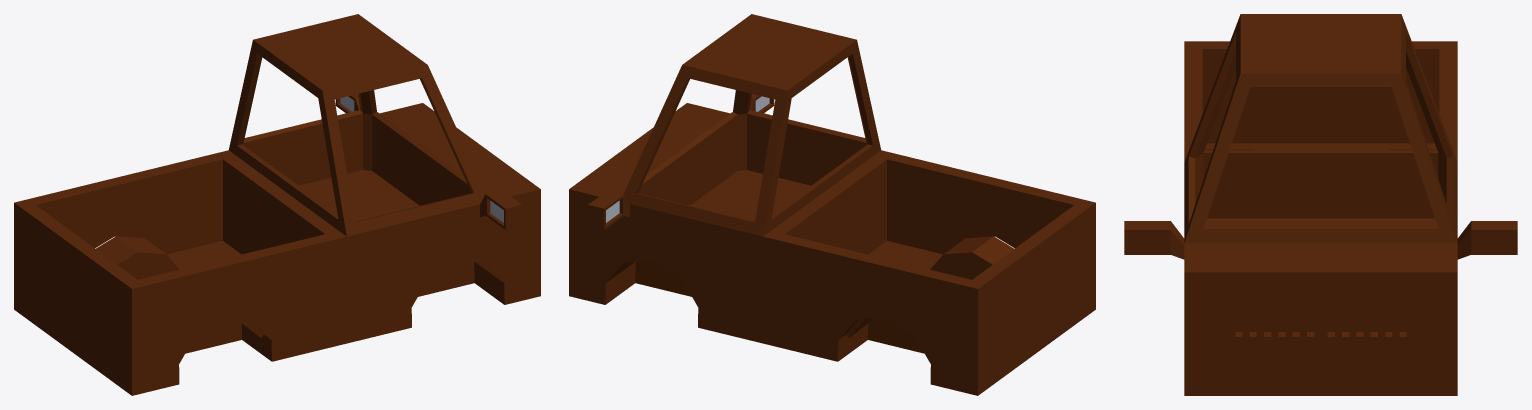
File: Car.glb
The picture shows the model from 3 angles, left to right: view 1: azimuth 30°, elevation 25°; view 2: azimuth 150°, elevation 25°; view 3: azimuth 270°, elevation 25°; orthographic projection. The views are drawn at different scales.
Visible parts, largest first — view 1: Cylinder.062; view 2: Cylinder.062; view 3: Cylinder.062.
Part boxes in pixels (x1,y1,x2,y2): Cylinder.062: (14,14,540,395); Cylinder.062: (569,14,1095,395); Cylinder.062: (1124,14,1517,395).
Bounding box in the file's own units: 0.129 × 0.0709 × 0.0929.
Materials: 1 (1 with a texture image).
